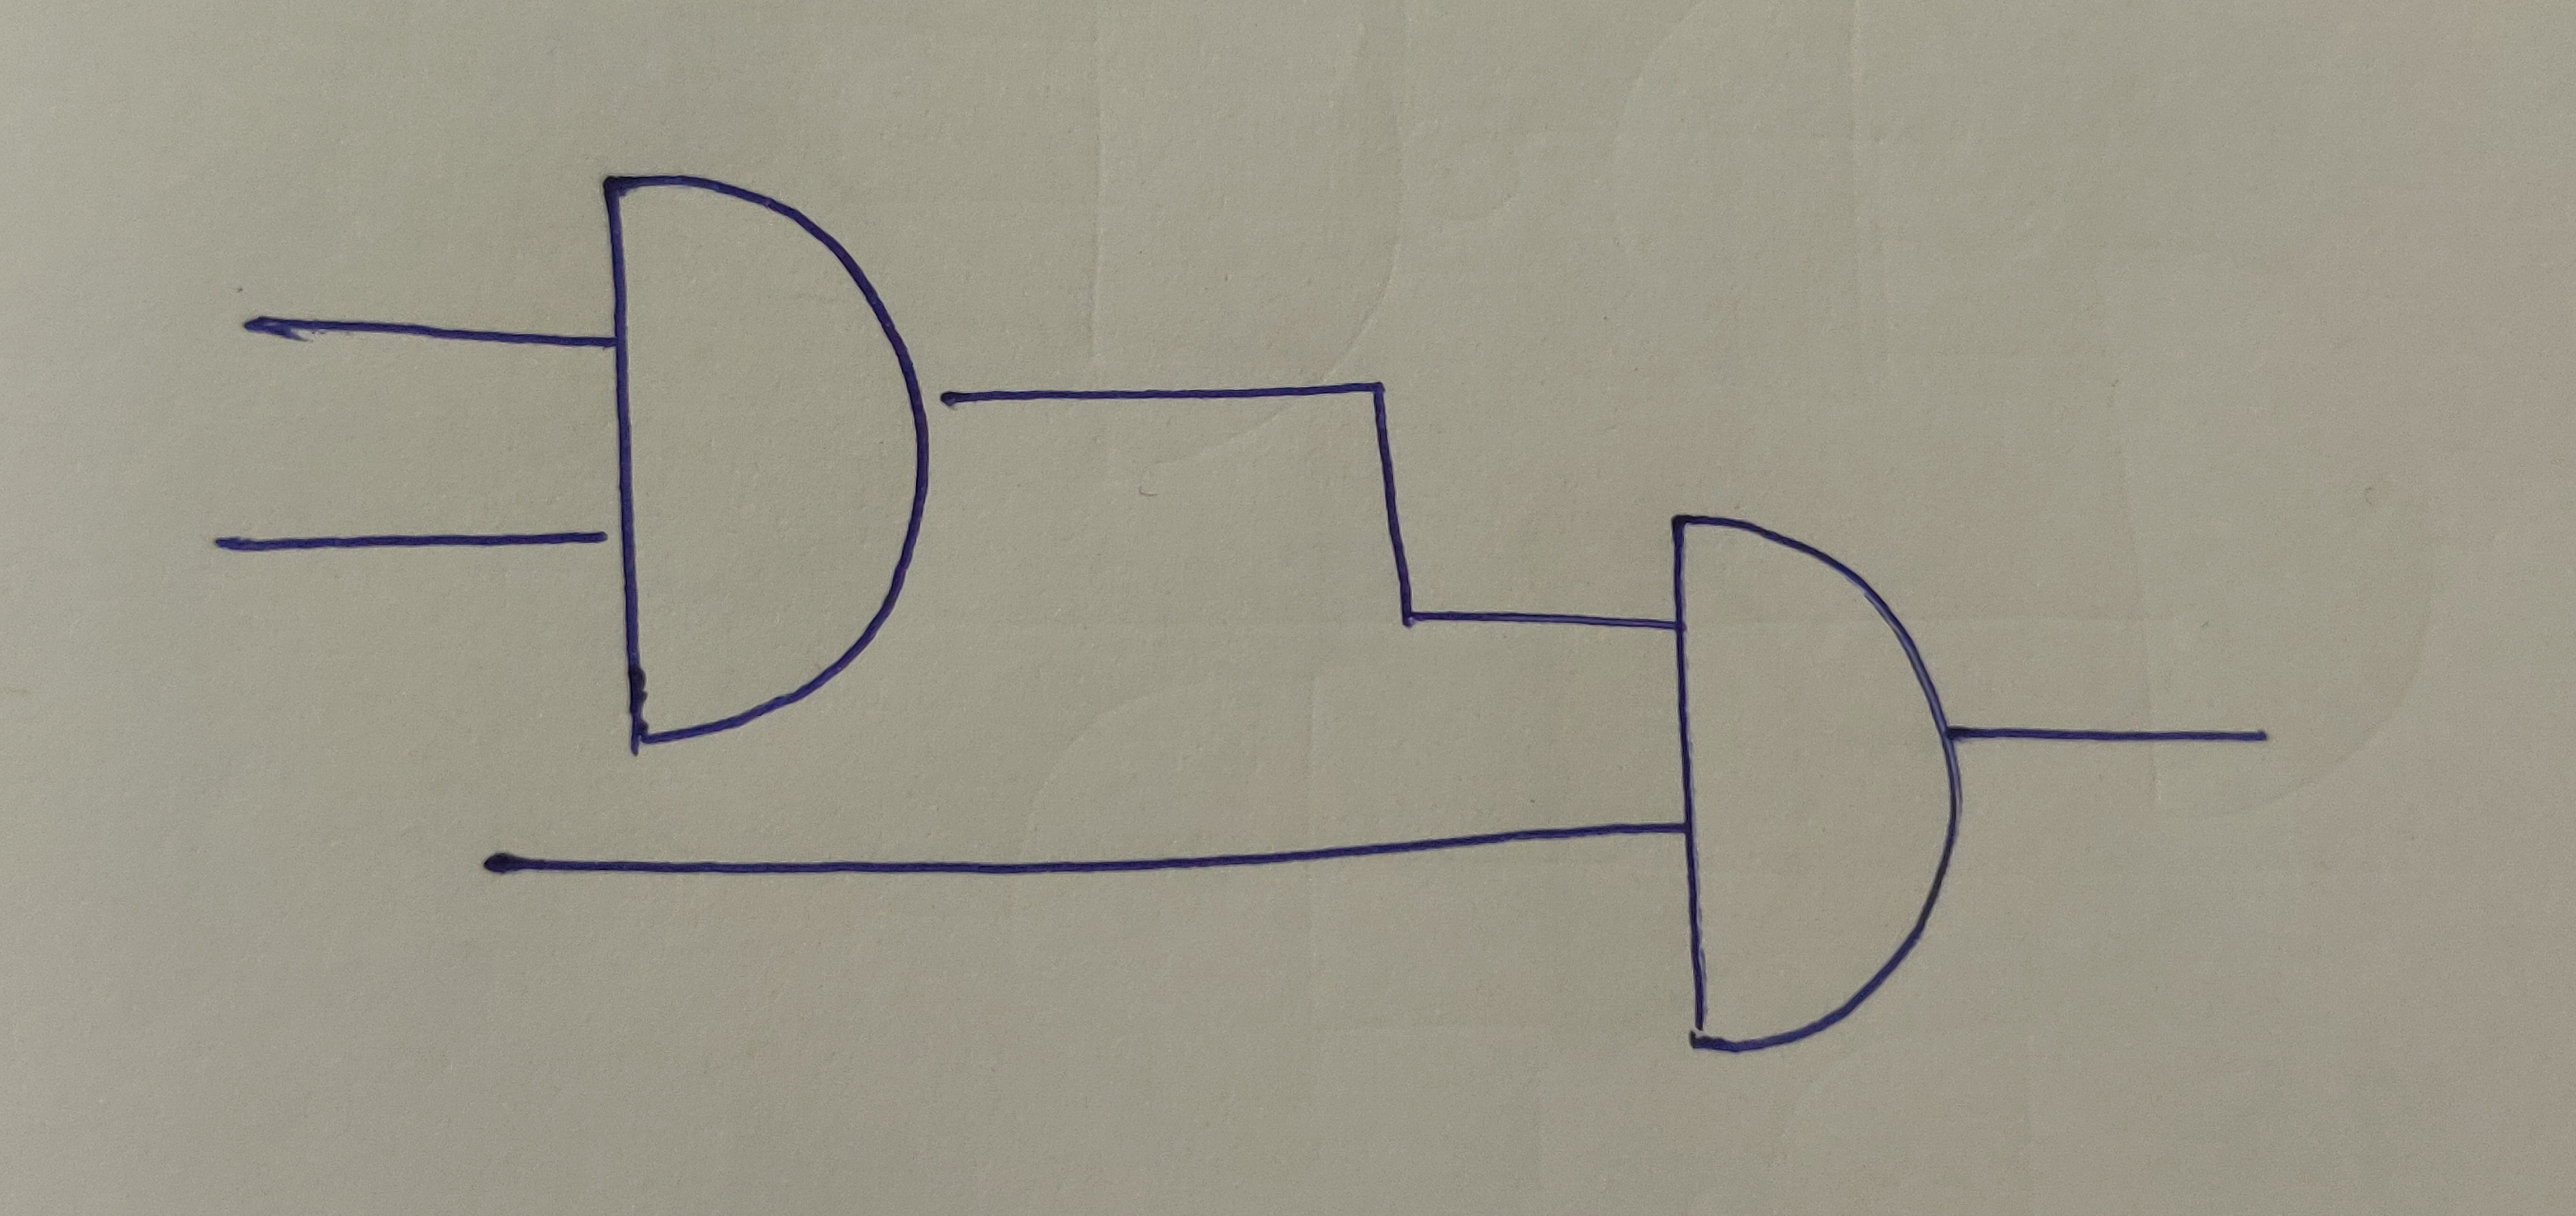and: (606, 169, 932, 746), (1669, 504, 1960, 1057)
